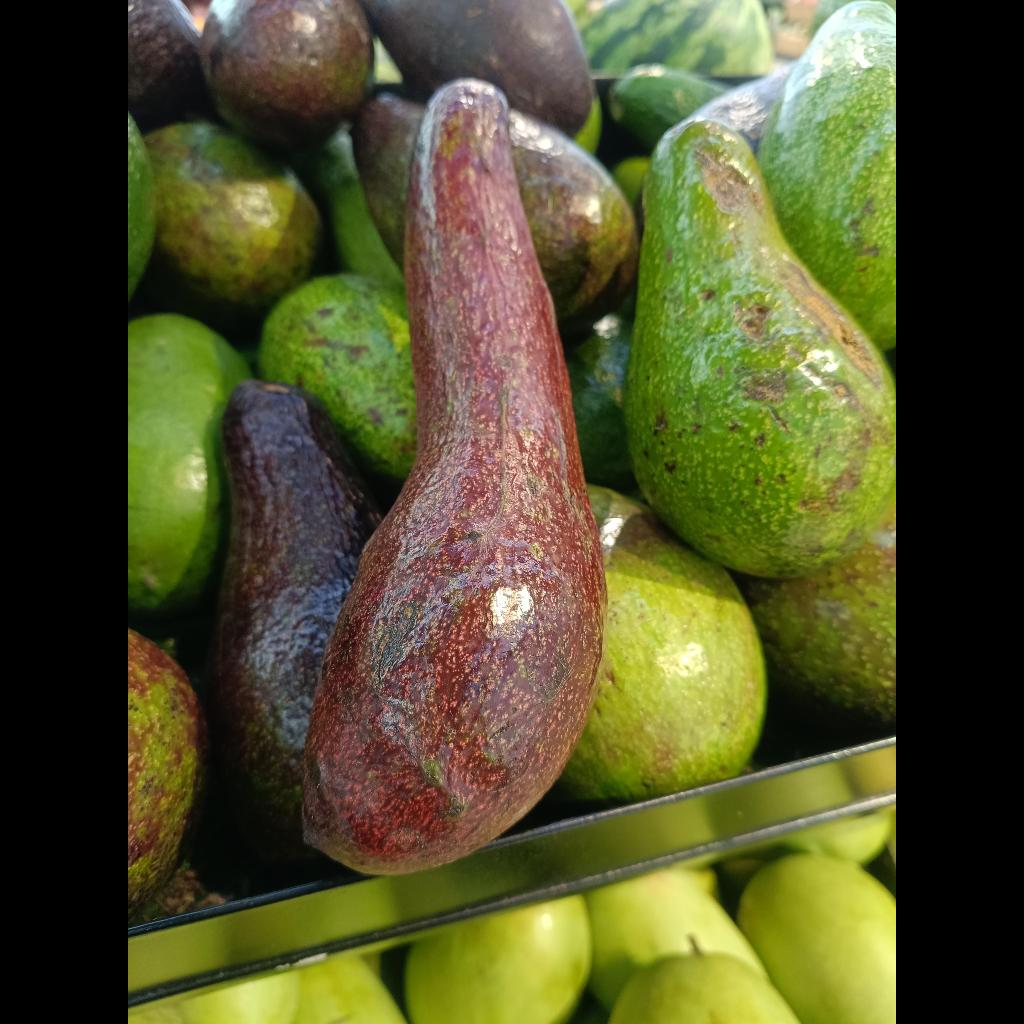antracnosis_fruto: (304, 79, 606, 874)
